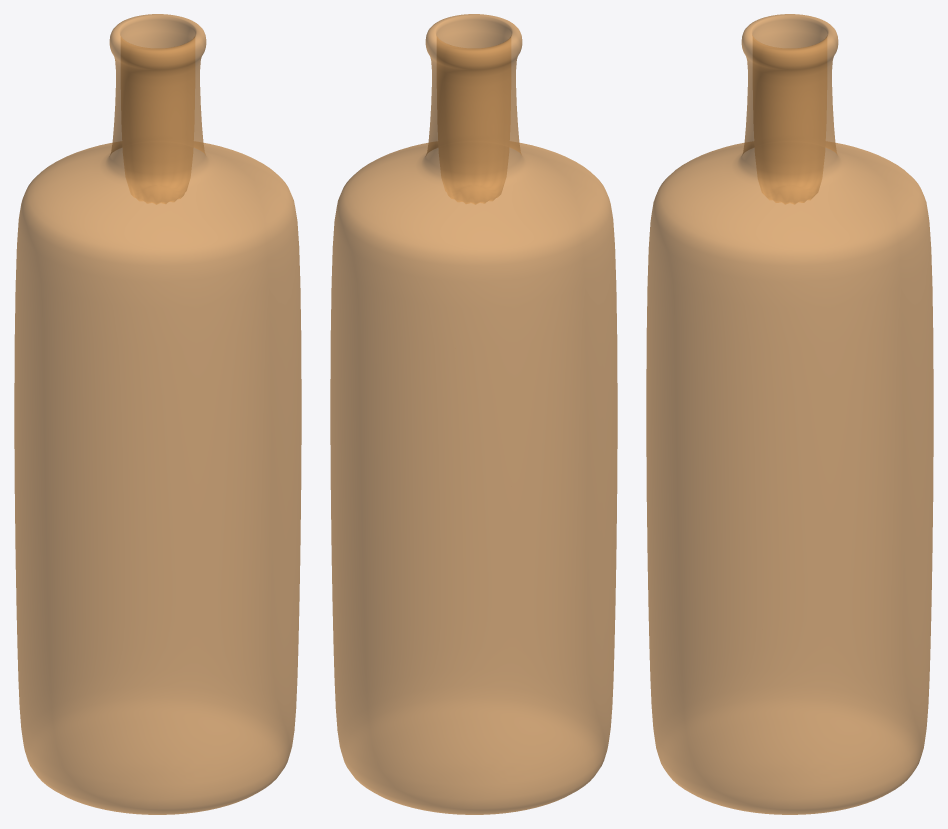
The model's file is Bottle_Orange.glb.
3 renders of one model, left to right at view 1: azimuth 30°, elevation 25°; view 2: azimuth 150°, elevation 25°; view 3: azimuth 270°, elevation 25°, orthographic.
Visible parts, largest first — view 1: Bottle_Orange; view 2: Bottle_Orange; view 3: Bottle_Orange.
Boxes of the visible parts, <box> form: Bottle_Orange: <box>14,14,301,814</box>; Bottle_Orange: <box>330,14,617,814</box>; Bottle_Orange: <box>646,14,933,814</box>.
Bounding box in the file's own units: 0.1108 × 0.32 × 0.1108.
